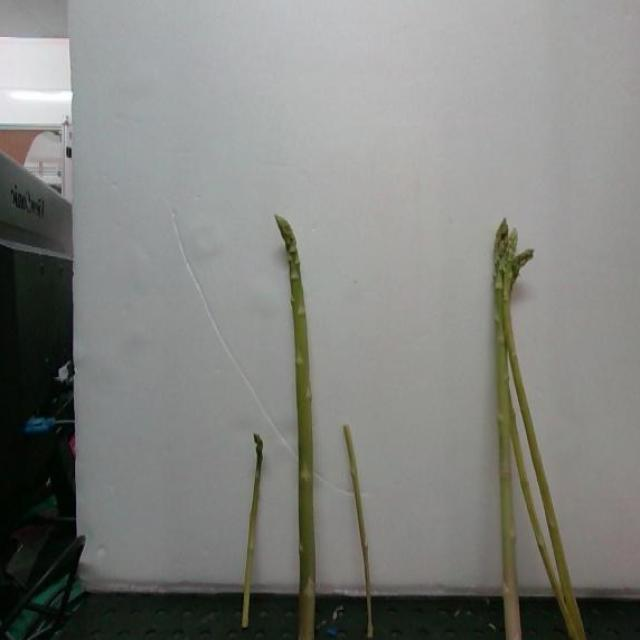aspargus: (277, 218, 317, 640), (491, 215, 522, 640)
